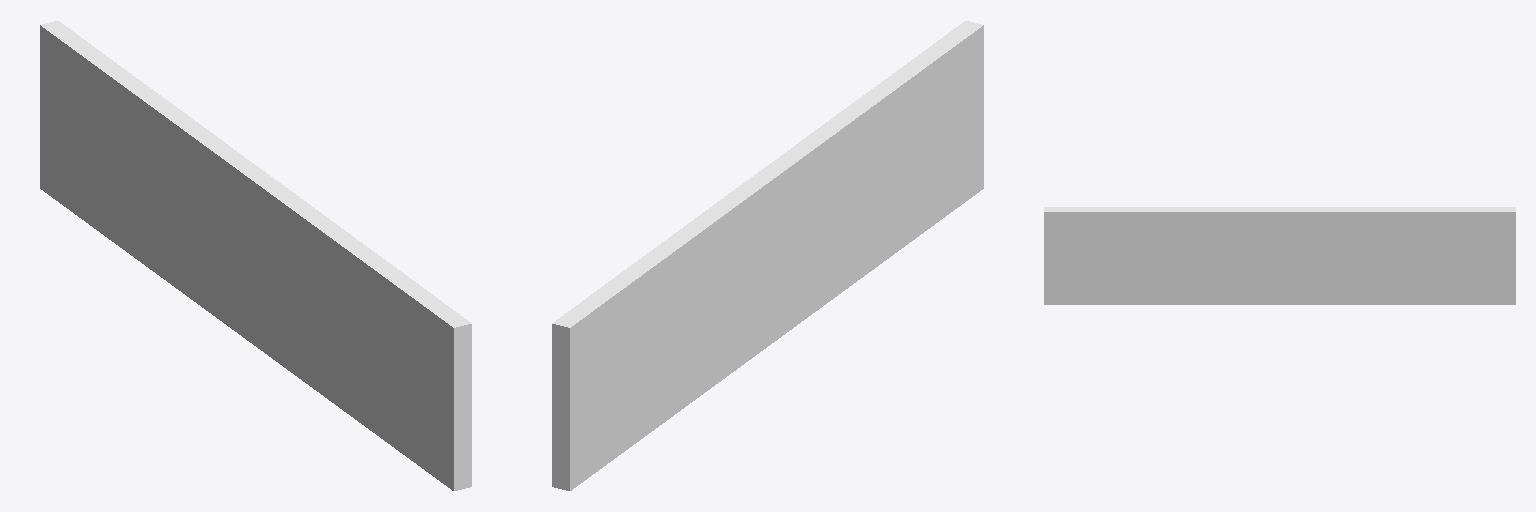
URDF robot description (drawer_compartment_leftwall):
<?xml version="1.0" ?>
<robot name="drawer_compartment_leftwall">
 <link name="baseLink">
   <contact>
     <lateral_friction value="0.5"/>
   </contact>
   <inertial>
     <origin rpy="0 0 0" xyz="0.34 0.39 0.615"/>
      <mass value="1.0"/>
      <inertia ixx="0.000141" ixy="-0.000000" ixz="-0.000000" iyy="0.000006" iyz="-0.000000" izz="0.000135"/>
   </inertial>
   <visual>
     <origin rpy="0 0 0" xyz="0 0 0"/>
     <geometry>
       <mesh filename="drawer_compartment_leftwall.obj" scale="1.0 1.0 1.0"/>
     </geometry>
      <material name="white">
       <color rgba="1 1 1 1"/>
     </material>
   </visual>
   <collision>
     <origin rpy="0 0 0" xyz="0 0 0"/>
     <geometry>
       <mesh filename="drawer_compartment_leftwall.obj" scale="1.0 1.0 1.0"/>
     </geometry>
   </collision>
 </link>
</robot>

--- Facts derived from the render (not from the file) ---
Views: 3 orthographic renders of the robot side by side, from view 1: azimuth 30°, elevation 25°; view 2: azimuth 150°, elevation 25°; view 3: azimuth 270°, elevation 25°.
Robot: drawer_compartment_leftwall — 1 links, 0 joints (none); root link baseLink; default pose: every joint at zero.
Links seen in each view (by area): view 1: baseLink; view 2: baseLink; view 3: baseLink.
Boxes of the visible links, x1,y1,x2,y2 form: baseLink: [40, 21, 471, 490]; baseLink: [552, 21, 983, 490]; baseLink: [1044, 207, 1515, 304].
Size in the robot's own frame: 0.02 by 0.78 by 0.17 metres.
1 mesh visuals loaded from 1 distinct referenced files (1 OBJ).